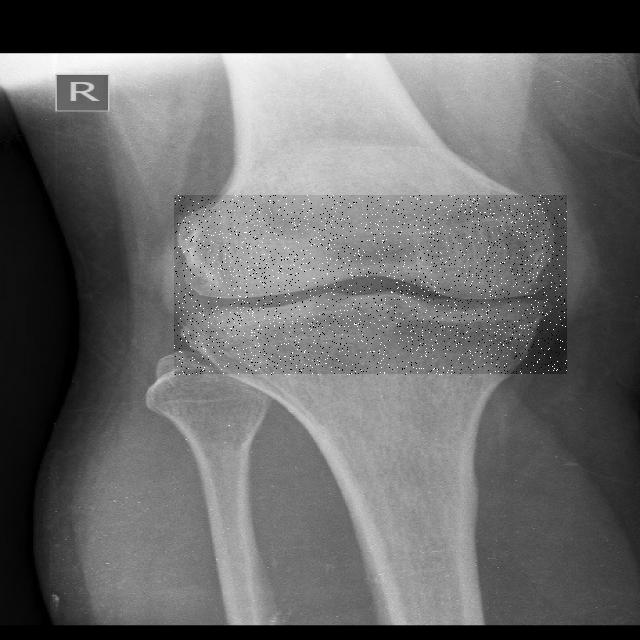osteo: (174, 196, 567, 376)
